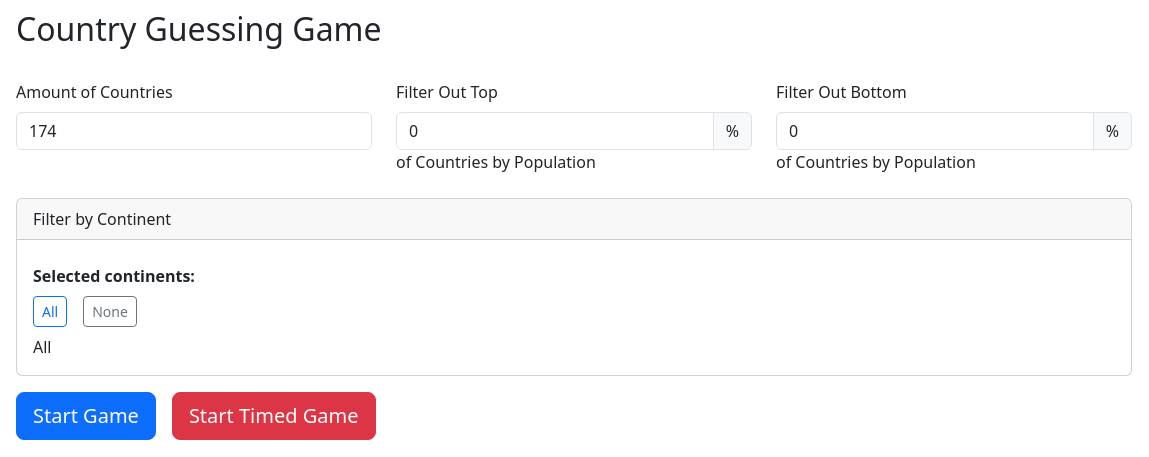
Test: Game Component › starts the game with valid input
The image size is (1149, 457).
Replace the text in the number field labelled "Amount of Countries" with "5" at (194,131), box top-left (16, 112), bottom-right (372, 150)
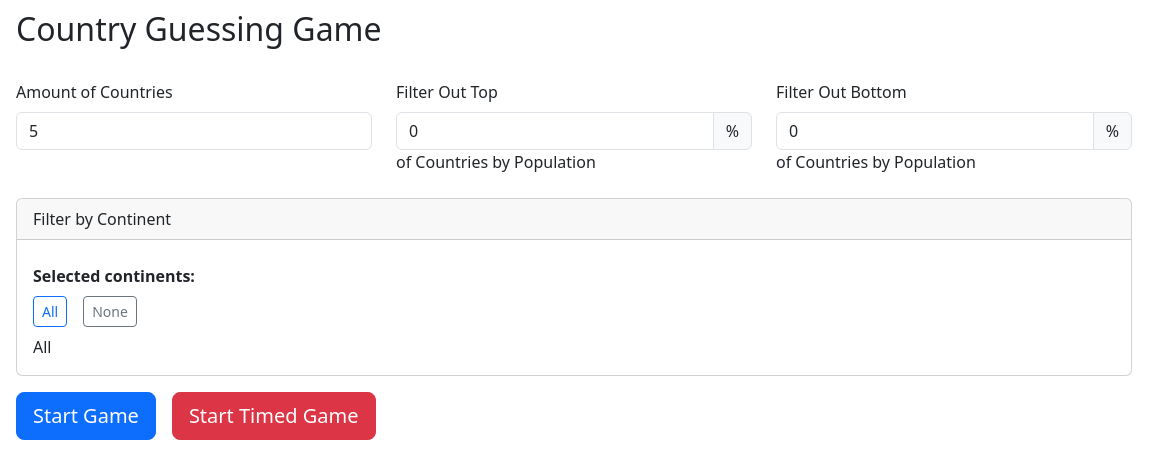
Replace the text in the number field labelled "Filter Out Top" with "10" at (555,131), box top-left (396, 112), bottom-right (714, 150)
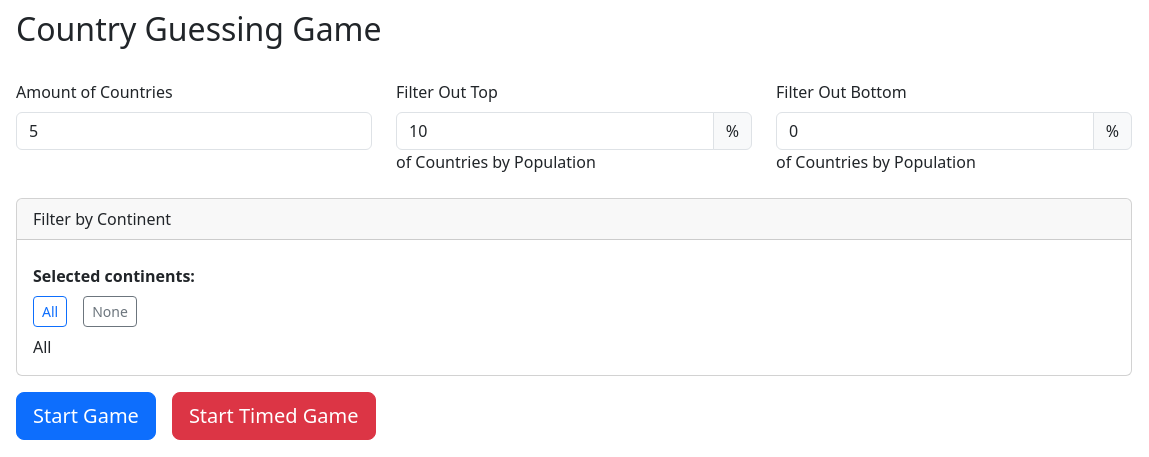
Replace the text in the number field labelled "Filter Out Bottom" with "10" at (935,131), box top-left (776, 112), bottom-right (1094, 150)
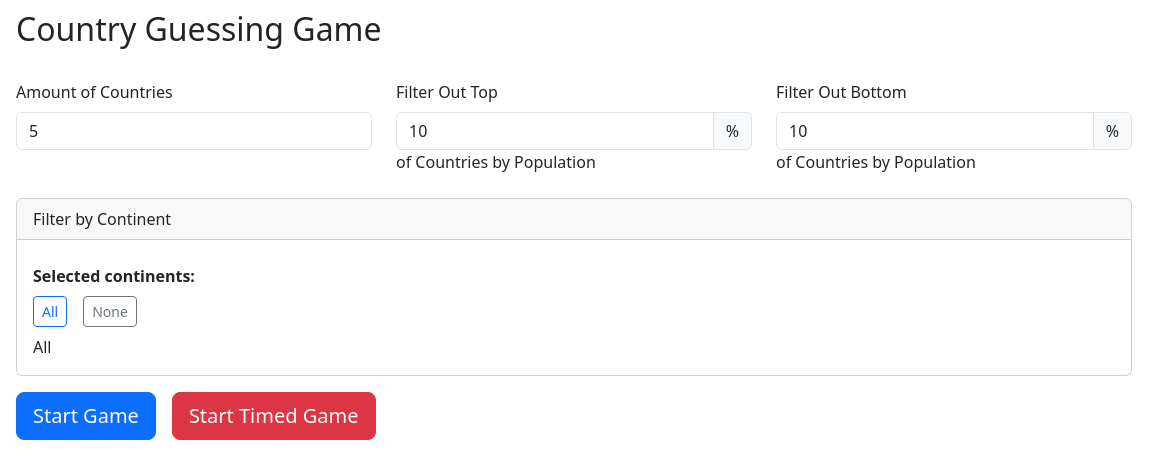
Click the button "Start Game" at (86,416), box top-left (16, 392), bottom-right (156, 440)
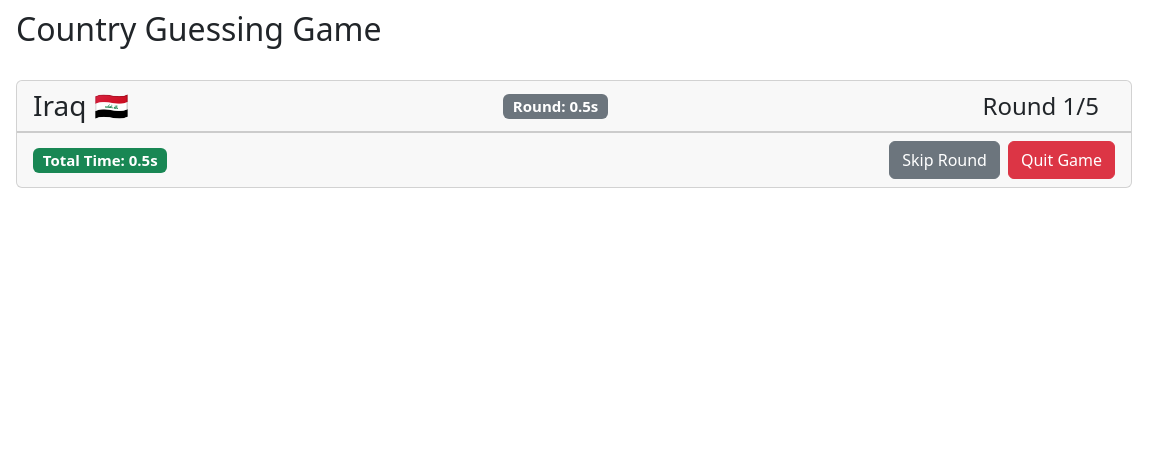
Now the heading "Round 1/5" is shown, box top-left (982, 92), bottom-right (1099, 121)
